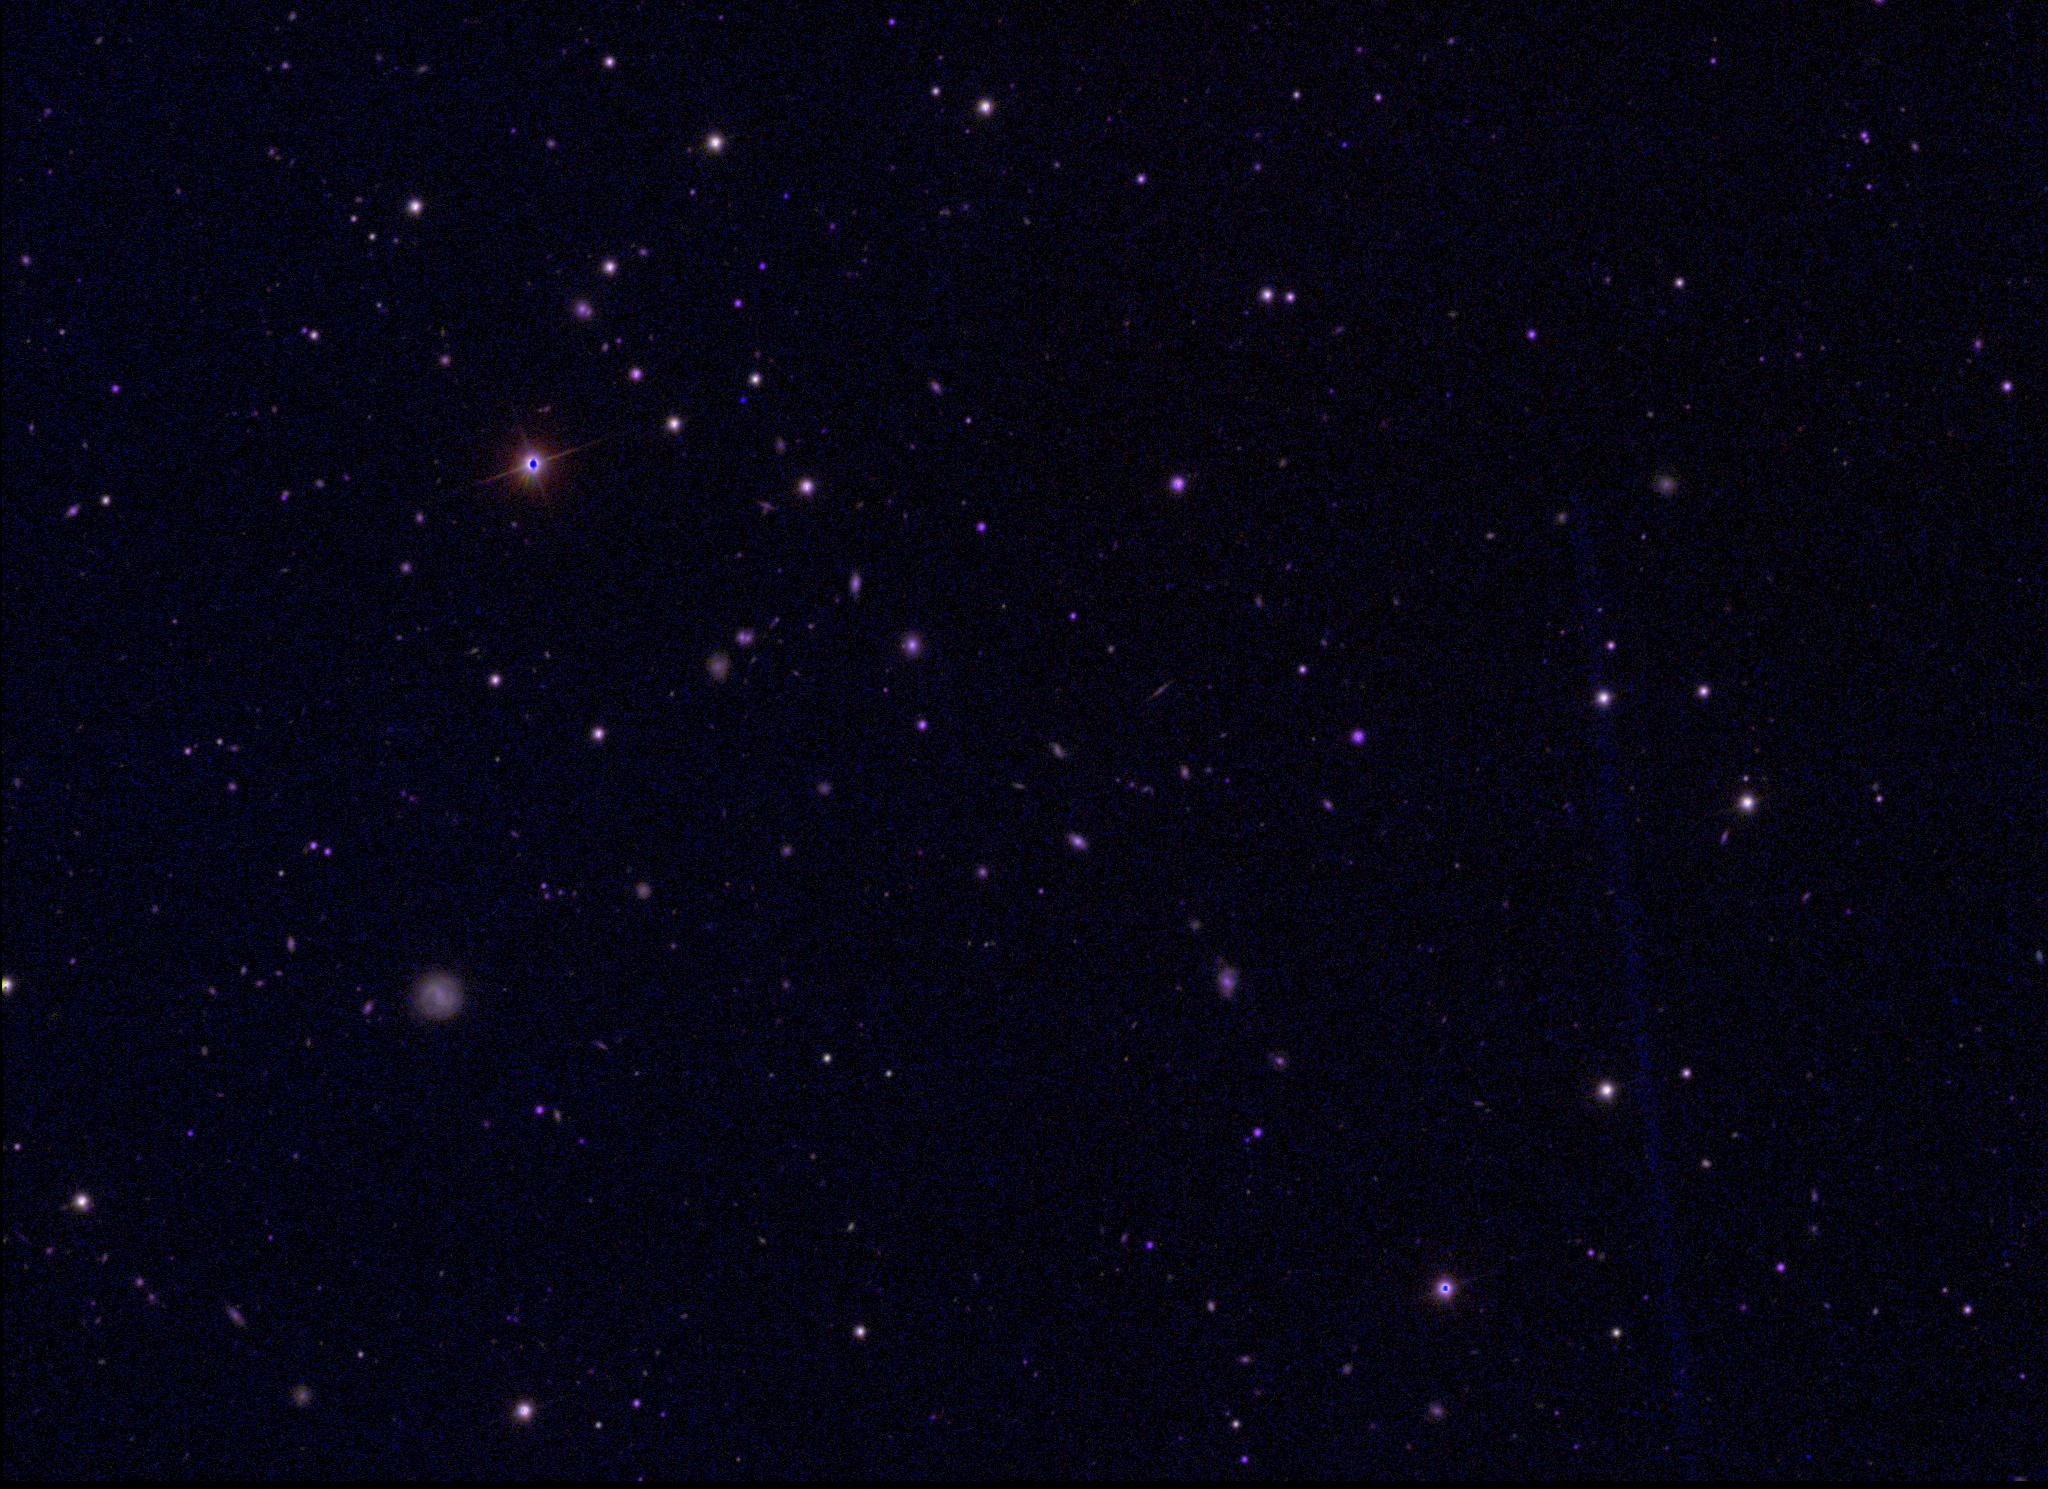L: (735, 393, 749, 407)
